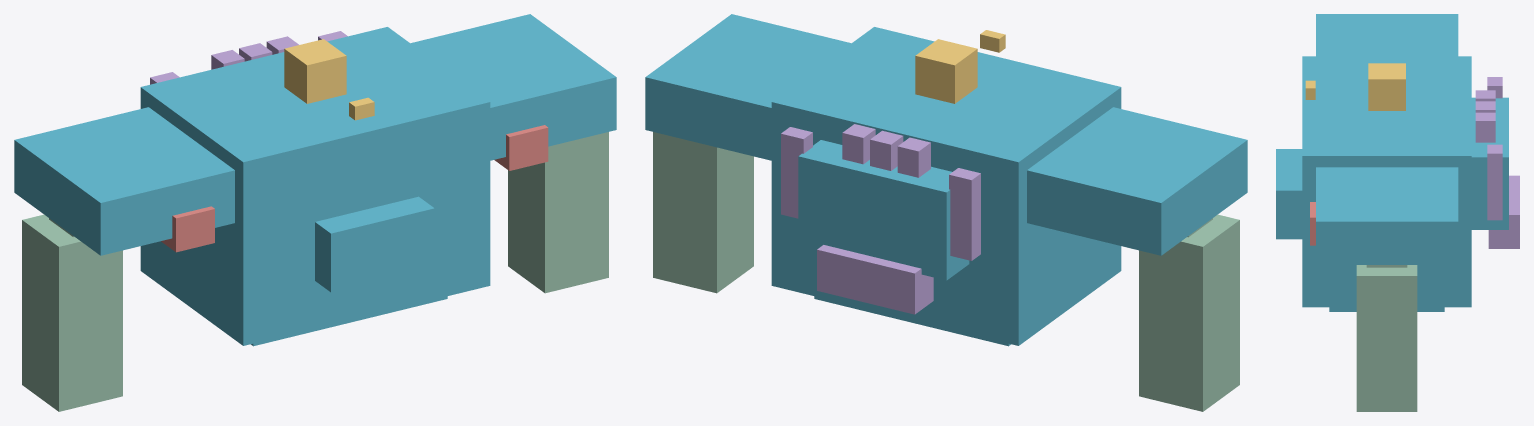
The model's file is mechfall_ibis.glb.
3 views of the same model, side by side, from view 1: azimuth 30°, elevation 25°; view 2: azimuth 150°, elevation 25°; view 3: azimuth 270°, elevation 25° (orthographic). The views are drawn at different scales.
Visible parts, largest first — view 1: TORSO HULL, SHOULDER L, FOREARM L, SHOULDER R, FOREARM R, REACTOR CORE, COCKPIT CANOPY, WEAPON MOUNT R, WEAPON MOUNT L, HIP ASSEMBLY; view 2: TORSO HULL, SHOULDER L, SHOULDER R, FOREARM L, EW BACKPACK, FOREARM R, COCKPIT CANOPY, RADIATOR L, THRUSTER 1, RADIATOR R, THRUSTER 4, THRUSTER 2 (+5 smaller); view 3: TORSO HULL, SHOULDER R, FOREARM R, SHOULDER L, EW BACKPACK, REACTOR CORE, COCKPIT CANOPY, RADIATOR R, THRUSTER 4, JUMP JET 3, RADIATOR L, HIP ASSEMBLY (+3 smaller).
Boxes of the visible parts, <box> form: TORSO HULL: <box>140,27,490,345</box>; SHOULDER L: <box>14,107,234,255</box>; FOREARM L: <box>22,214,122,411</box>; SHOULDER R: <box>410,14,616,160</box>; FOREARM R: <box>508,132,608,293</box>; REACTOR CORE: <box>315,196,434,292</box>; COCKPIT CANOPY: <box>284,39,346,103</box>; WEAPON MOUNT R: <box>494,125,548,170</box>; WEAPON MOUNT L: <box>161,206,214,252</box>; HIP ASSEMBLY: <box>251,296,447,346</box>; TORSO HULL: <box>771,27,1121,345</box>; SHOULDER L: <box>1027,107,1247,255</box>; SHOULDER R: <box>645,14,851,160</box>; FOREARM L: <box>1139,214,1239,411</box>; EW BACKPACK: <box>798,140,969,280</box>; FOREARM R: <box>653,132,753,293</box>; COCKPIT CANOPY: <box>915,39,977,103</box>; RADIATOR L: <box>949,168,980,260</box>; THRUSTER 1: <box>885,261,933,314</box>; RADIATOR R: <box>781,127,812,218</box>; THRUSTER 4: <box>817,245,846,297</box>; THRUSTER 2: <box>862,256,891,308</box>; TORSO HULL: <box>1302,56,1471,307</box>; SHOULDER R: <box>1316,167,1458,264</box>; FOREARM R: <box>1356,265,1417,411</box>; SHOULDER L: <box>1316,14,1458,56</box>; EW BACKPACK: <box>1471,97,1508,229</box>; REACTOR CORE: <box>1276,149,1302,239</box>; COCKPIT CANOPY: <box>1368,63,1405,110</box>; RADIATOR R: <box>1487,144,1502,220</box>; THRUSTER 4: <box>1488,203,1519,248</box>; JUMP JET 3: <box>1475,112,1495,142</box>; RADIATOR L: <box>1487,77,1502,98</box>; HIP ASSEMBLY: <box>1329,307,1444,311</box>.
Size of the model in its own units: 6.76 by 3.28 by 3.15.
